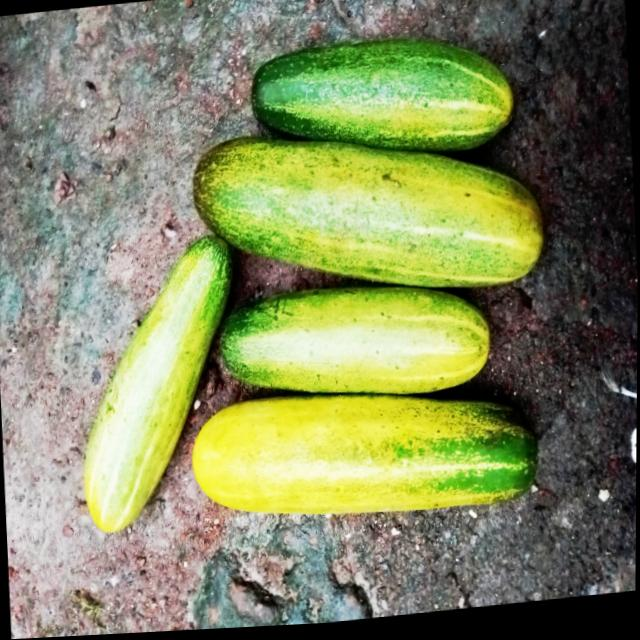Fresh-Cucumber: (188, 107, 551, 321), (185, 374, 543, 541), (67, 217, 248, 543), (247, 24, 518, 173), (216, 276, 494, 416)
